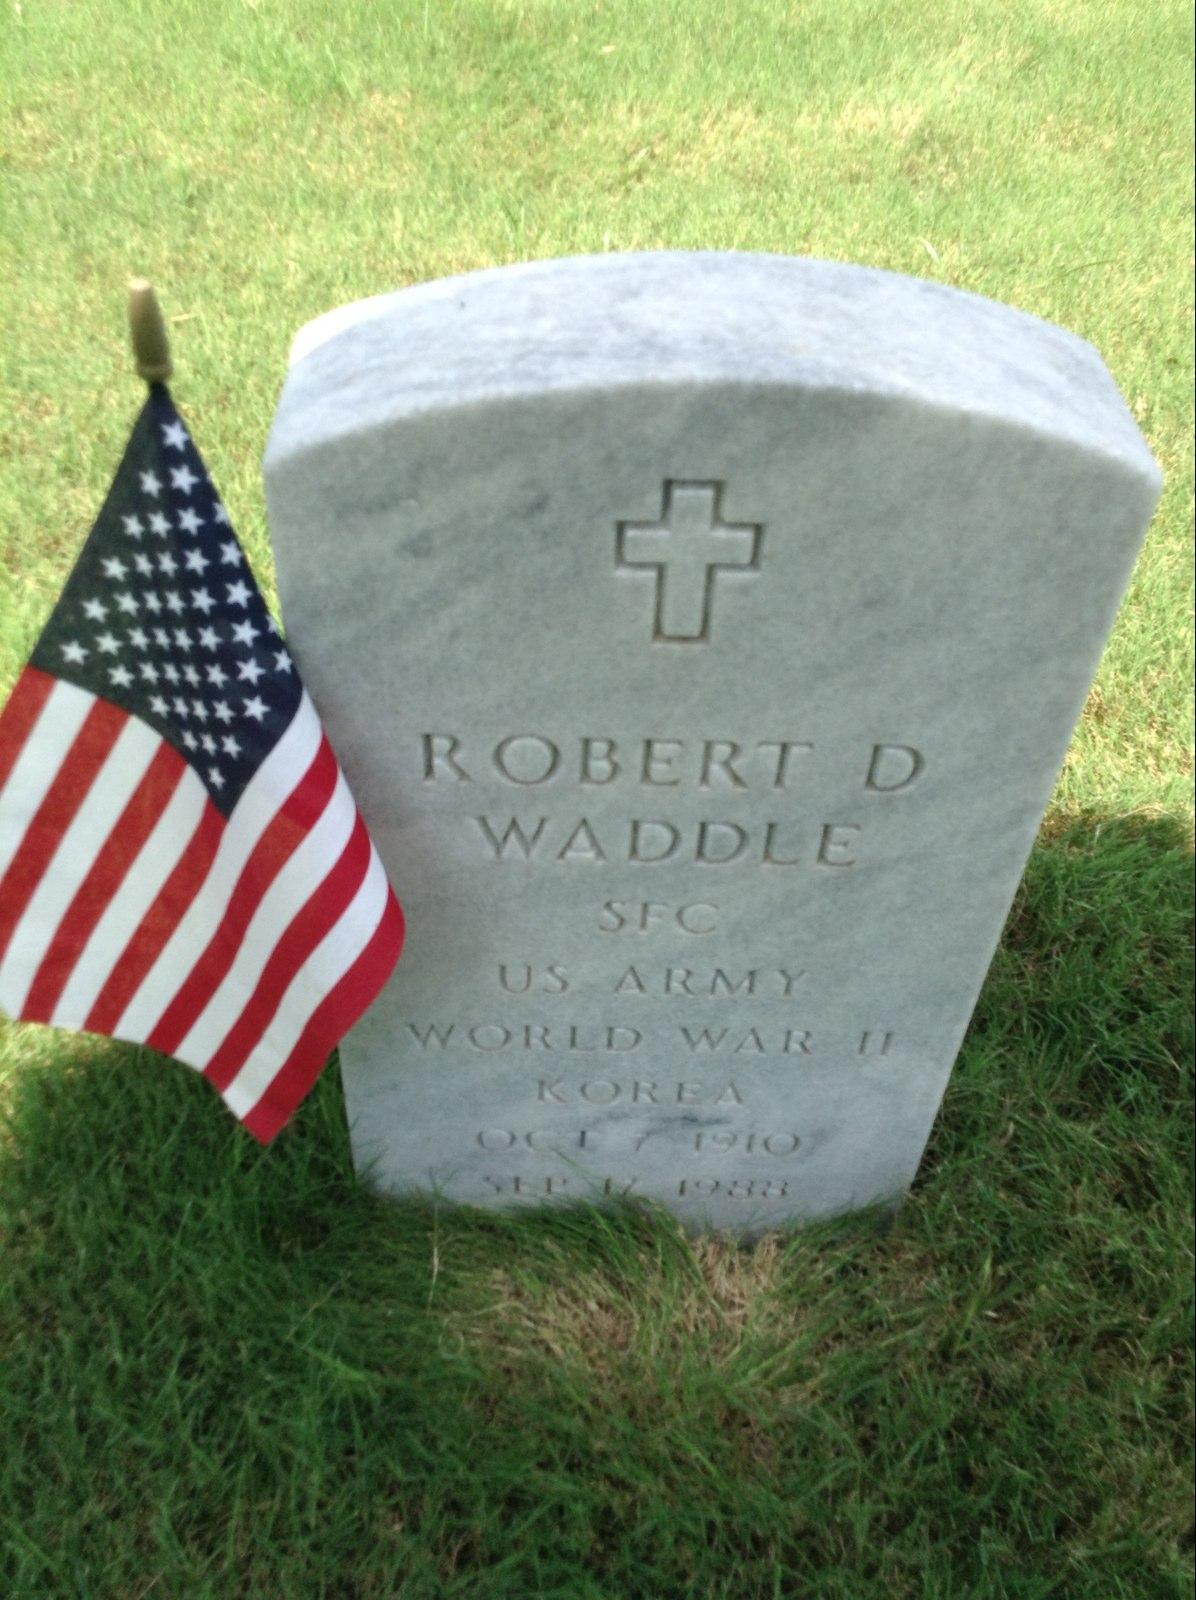military: (117, 188, 1167, 1284)
